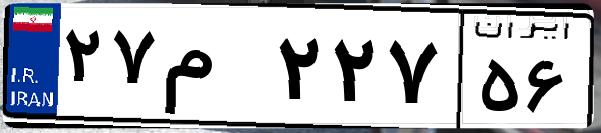2: (270, 28, 330, 110), (330, 28, 385, 110), (57, 26, 110, 100)
5: (475, 38, 525, 113)
6: (525, 38, 570, 115)
7: (385, 28, 445, 110), (110, 28, 158, 98)
م: (158, 20, 270, 120)
